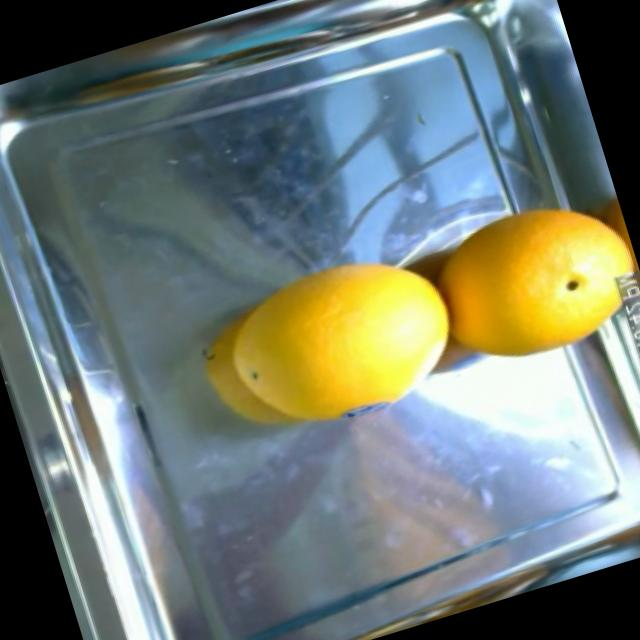Fruit: (224, 209, 491, 454), (178, 264, 395, 468)
